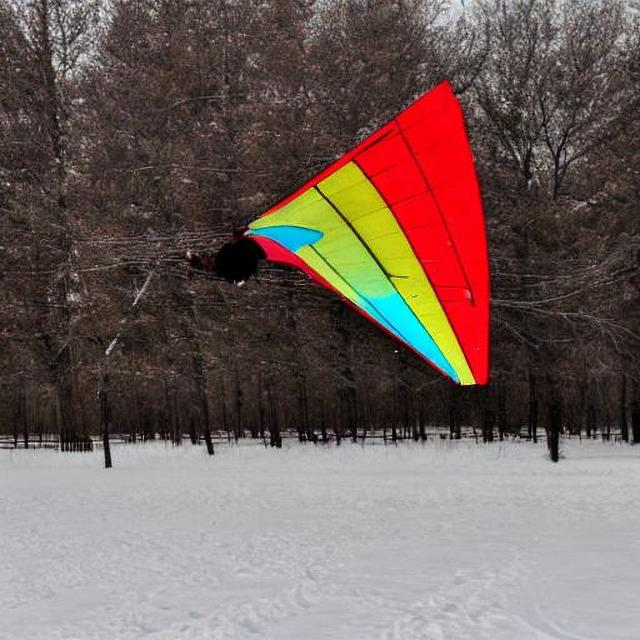floating object: (237, 85, 499, 383)
